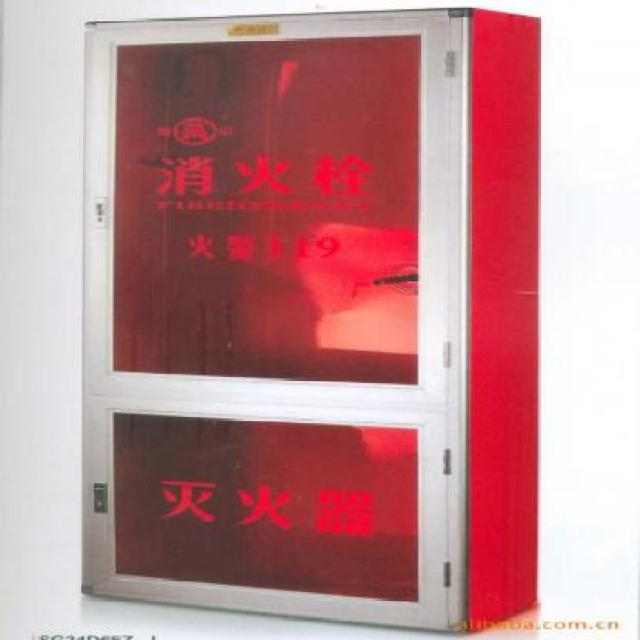firehydrant: (65, 3, 549, 639)
